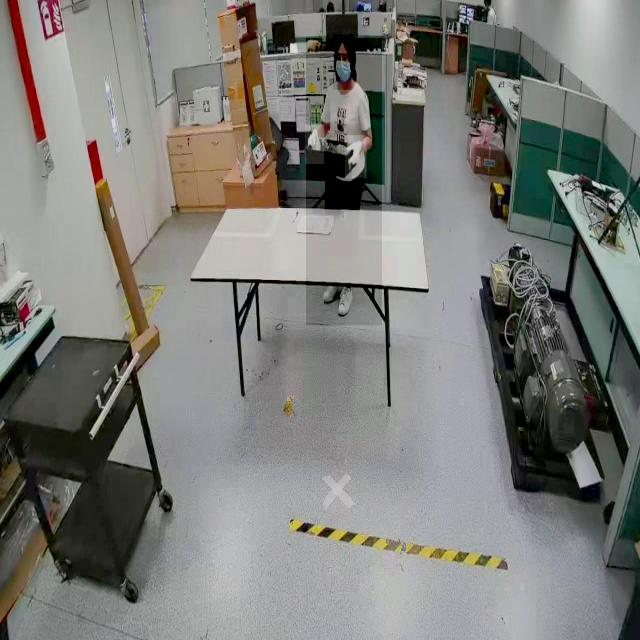face_mask: (333, 53, 355, 91)
hand_glove: (344, 135, 366, 179), (306, 124, 324, 164)
head_nohelmet: (333, 35, 354, 53)
person: (306, 38, 382, 326)
